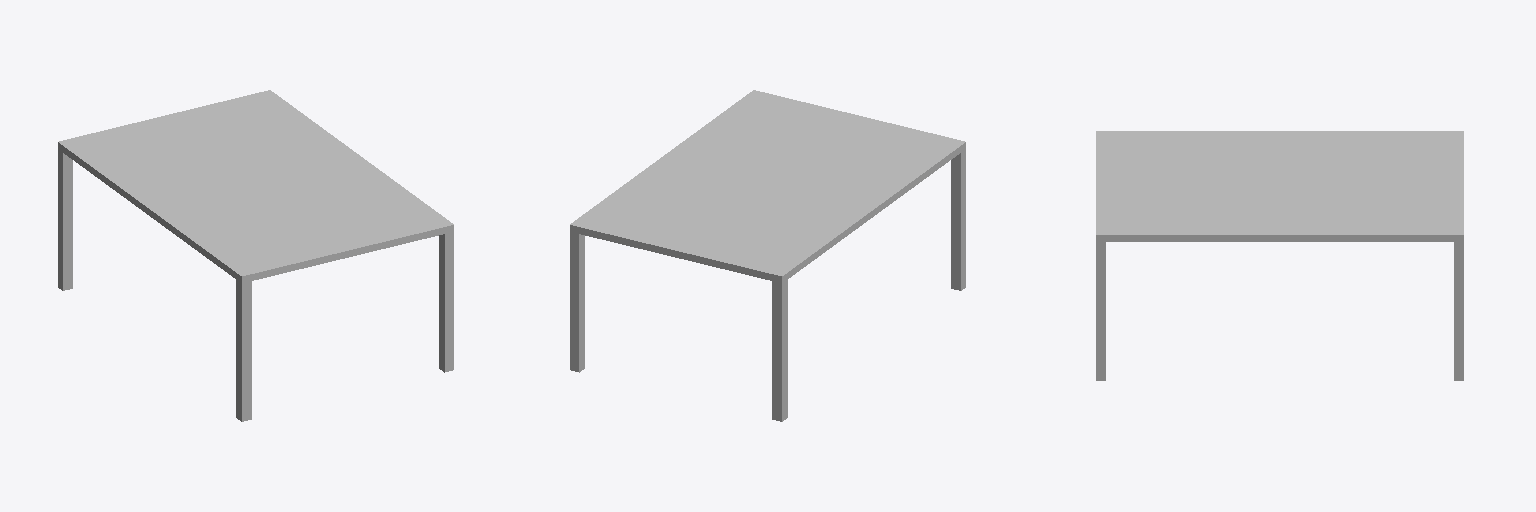
File: table.obj
3 views of the same model, side by side, from view 1: azimuth 30°, elevation 25°; view 2: azimuth 150°, elevation 25°; view 3: azimuth 270°, elevation 25° (orthographic).
Parts seen in each view (by area): view 1: Table2 Table; view 2: Table2 Table; view 3: Table2 Table.
Part boxes in pixels (x1,y1,x2,y2): Table2 Table: (58,90,453,421); Table2 Table: (570,90,965,421); Table2 Table: (1096,131,1463,380).
Bounding box in the file's own units: 32 × 20.91 × 48.